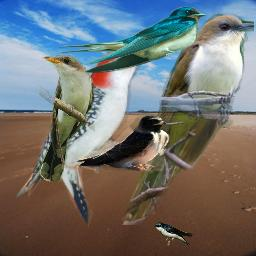Cuckoo: (121, 11, 254, 225), (39, 55, 95, 182)
Swallow: (55, 6, 206, 74), (75, 115, 170, 171), (154, 222, 196, 246)
Woodpecker: (13, 40, 159, 230)
